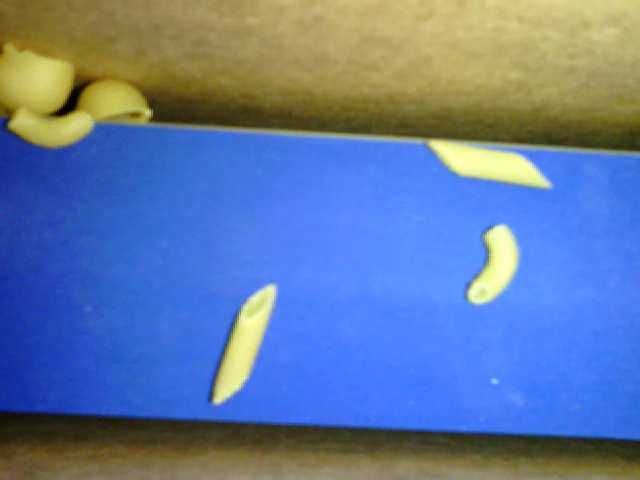elbow: (465, 225, 518, 303), (6, 109, 94, 147)
penne: (209, 284, 275, 403), (427, 140, 551, 187)
shell: (1, 44, 75, 114), (76, 79, 151, 123)
